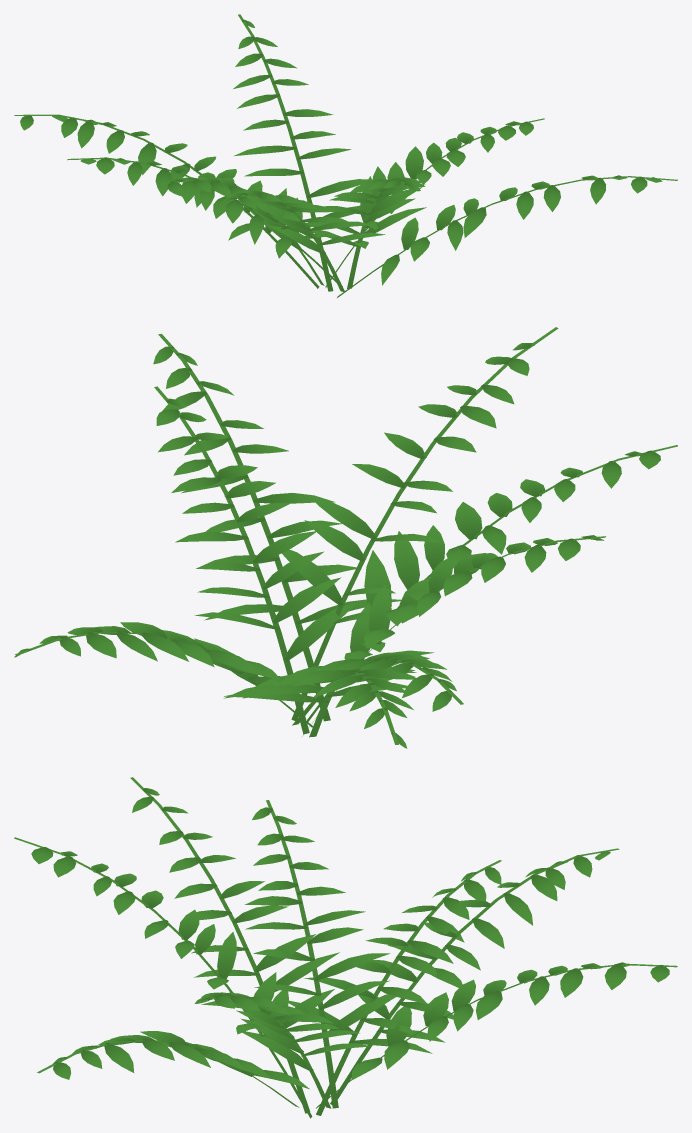
Rendered from fern1_s15869.gltf.
3 renders of one model, top to bottom at view 1: azimuth 30°, elevation 25°; view 2: azimuth 150°, elevation 25°; view 3: azimuth 270°, elevation 25°, orthographic. The views are drawn at different scales.
Parts seen in each view (by area): view 1: fern1_s15869_leaf_LOD0, fern1_s15869_stalk_LOD0; view 2: fern1_s15869_leaf_LOD0, fern1_s15869_stalk_LOD0; view 3: fern1_s15869_leaf_LOD0, fern1_s15869_stalk_LOD0.
Boxes of the visible parts, box(x1,y1,x2,y2) form: fern1_s15869_leaf_LOD0: box(20, 19, 662, 285); fern1_s15869_stalk_LOD0: box(14, 14, 677, 297); fern1_s15869_leaf_LOD0: box(14, 343, 660, 748); fern1_s15869_stalk_LOD0: box(15, 327, 677, 744); fern1_s15869_leaf_LOD0: box(31, 788, 669, 1089); fern1_s15869_stalk_LOD0: box(14, 777, 677, 1118).
Size of what is drawn, in the model's own units: 1.27 by 0.5974 by 1.48.
